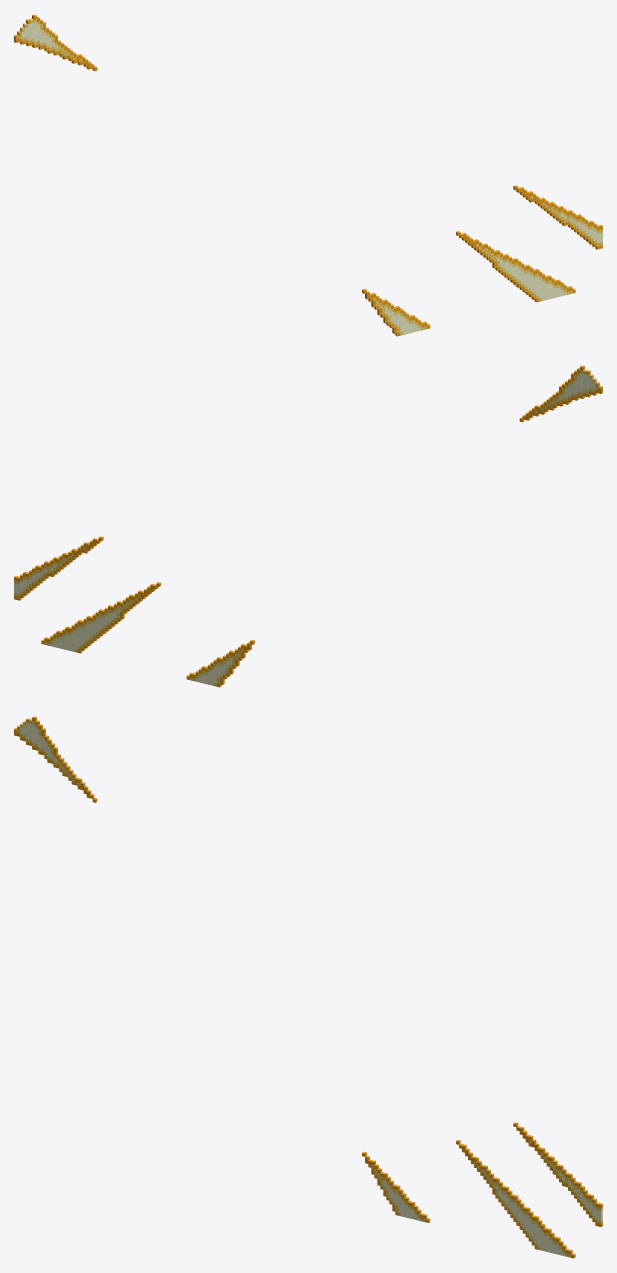
File: Fight_744_2_09_fx.obj
3 views of the same model, one above another, from view 1: azimuth 30°, elevation 25°; view 2: azimuth 150°, elevation 25°; view 3: azimuth 330°, elevation 25° (orthographic).
Bounding box in the file's own units: 19.4 × 12.9 × 0.1.
